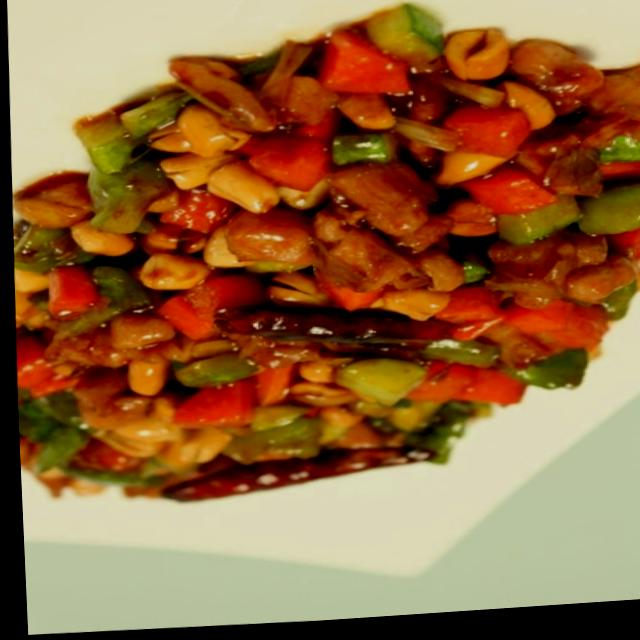鸡肉料理 含炸鸡: (1, 0, 640, 563)
